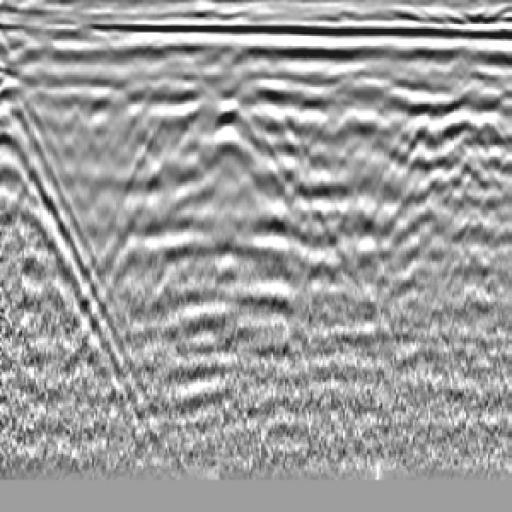metalic: (153, 69, 275, 139)
